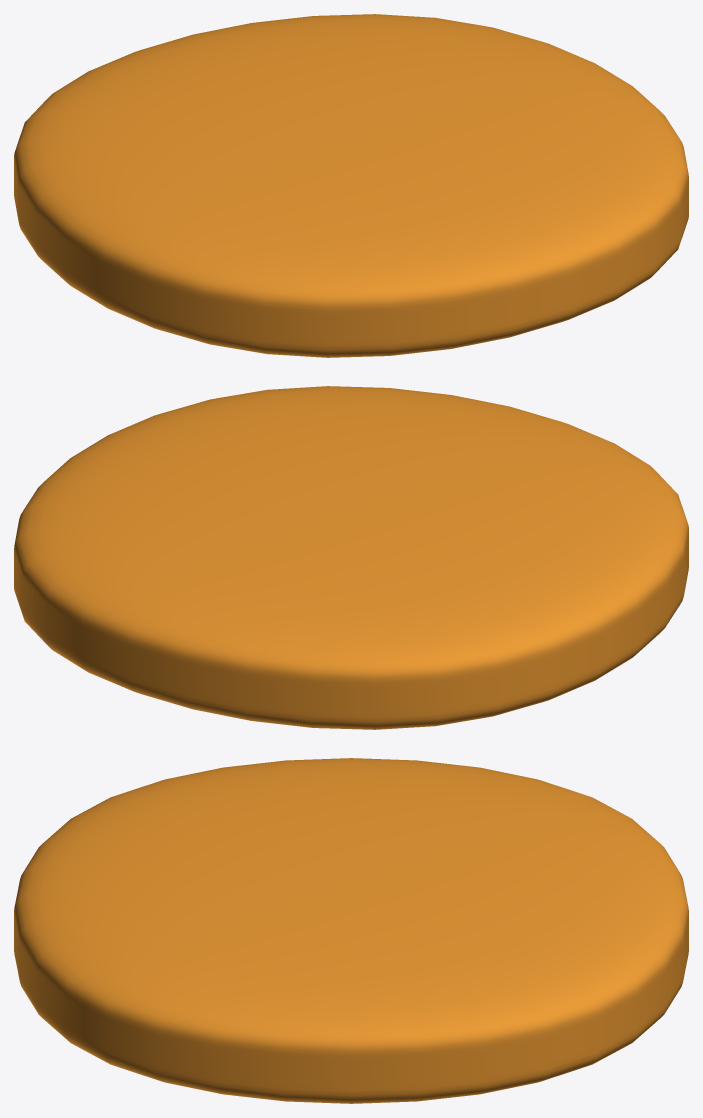
The model's file is paninferior.glb.
3 views of the same model, one above another, from view 1: azimuth 30°, elevation 25°; view 2: azimuth 150°, elevation 25°; view 3: azimuth 270°, elevation 25° (orthographic). The views are drawn at different scales.
Parts seen in each view (by area): view 1: Panbase.002; view 2: Panbase.002; view 3: Panbase.002.
Boxes of the visible parts, x1=… form: Panbase.002: x1=14, y1=14, x2=688, y2=357; Panbase.002: x1=14, y1=386, x2=688, y2=729; Panbase.002: x1=14, y1=758, x2=688, y2=1103.
Size of the model in its own units: 2.09 by 0.3778 by 2.09.
